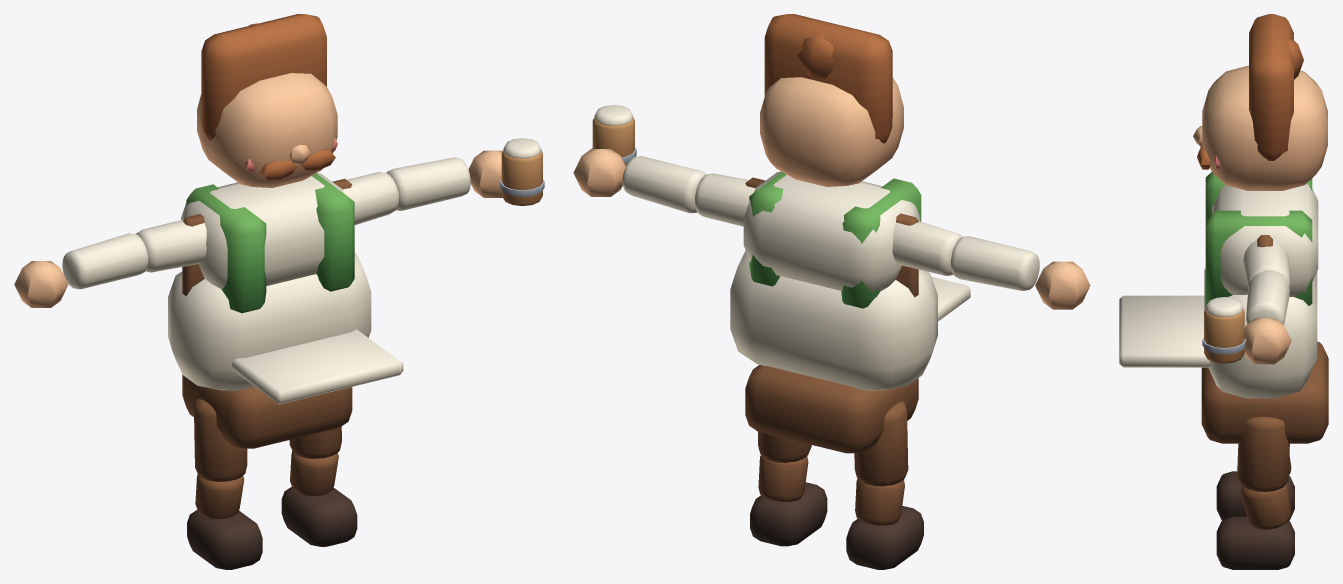
Rendered from npc_inn.glb.
3 renders of one model, left to right at view 1: azimuth 30°, elevation 25°; view 2: azimuth 150°, elevation 25°; view 3: azimuth 270°, elevation 25°, orthographic. The views are drawn at different scales.
Visible parts, largest first — view 1: spine__belly7, head__head15, chest__chest8, head__hair21, spine__apron27, hips__pelvis6, chest__vest26, chest__vest25, foot.l__boot2, foot.r__boot5, lowerarm.r__limb13, lowerarm.l__limb10 (+10 smaller); view 2: spine__belly7, chest__chest8, head__head15, hips__pelvis6, head__hair21, lowerarm.r__limb13, foot.l__boot2, foot.r__boot5, lowerarm.l__limb10, upperleg.r__limb3, upperarm.r__limb12, chest__vest26 (+12 smaller); view 3: head__head15, chest__chest8, spine__apron27, hips__pelvis6, head__hair21, spine__belly7, foot.l__boot2, upperleg.l__limb0, chest__vest25, lowerarm.l__limb10, hand.l__hand11, lowerleg.l__limb1 (+7 smaller).
Boxes of the visible parts, x1,y1,x2,y2 form: spine__belly7: (168, 252, 371, 390); head__head15: (197, 73, 337, 187); chest__chest8: (181, 173, 343, 289); head__hair21: (201, 14, 326, 140); spine__apron27: (232, 329, 403, 404); hips__pelvis6: (182, 374, 352, 448); chest__vest26: (186, 184, 266, 313); chest__vest25: (312, 173, 354, 291); foot.l__boot2: (281, 487, 357, 546); foot.r__boot5: (187, 509, 262, 569); lowerarm.r__limb13: (62, 233, 148, 289); lowerarm.l__limb10: (386, 157, 470, 210); spine__belly7: (730, 251, 937, 390); chest__chest8: (743, 171, 920, 292); head__head15: (760, 77, 903, 186); hips__pelvis6: (745, 365, 918, 453); head__hair21: (764, 14, 892, 143); lowerarm.r__limb13: (950, 236, 1039, 290); foot.l__boot2: (750, 482, 827, 546); foot.r__boot5: (846, 506, 923, 569); lowerarm.l__limb10: (622, 156, 706, 213); upperleg.r__limb3: (854, 401, 908, 486); upperarm.r__limb12: (892, 221, 962, 275); chest__vest26: (841, 178, 921, 308); head__head15: (1202, 65, 1327, 190); chest__chest8: (1212, 184, 1318, 296); spine__apron27: (1119, 295, 1209, 367); hips__pelvis6: (1201, 341, 1328, 443); head__hair21: (1249, 14, 1293, 160); spine__belly7: (1204, 268, 1317, 398); foot.l__boot2: (1216, 516, 1294, 569); upperleg.l__limb0: (1237, 417, 1289, 491); chest__vest25: (1205, 210, 1312, 305); lowerarm.l__limb10: (1246, 270, 1290, 324); hand.l__hand11: (1244, 318, 1291, 364); lowerleg.l__limb1: (1241, 483, 1291, 529).
Bounding box in the file's own units: 1.81 × 1.79 × 0.6675.
Materials: 1 (1 with a texture image).
